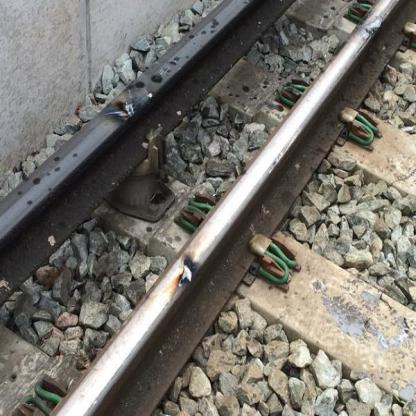Defective: (126, 228, 260, 340)
